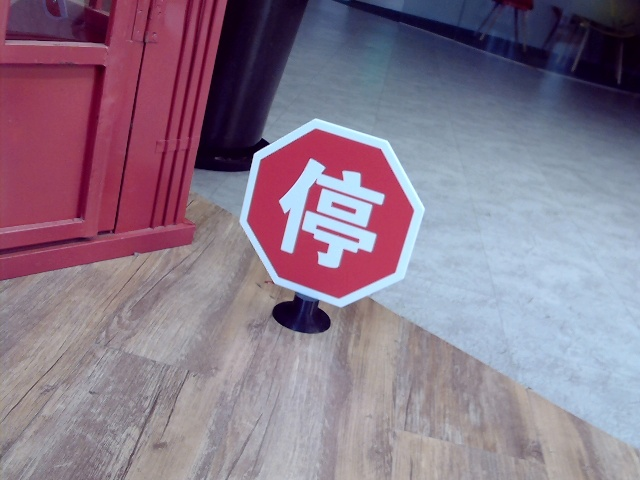stop: (277, 160, 387, 266)
